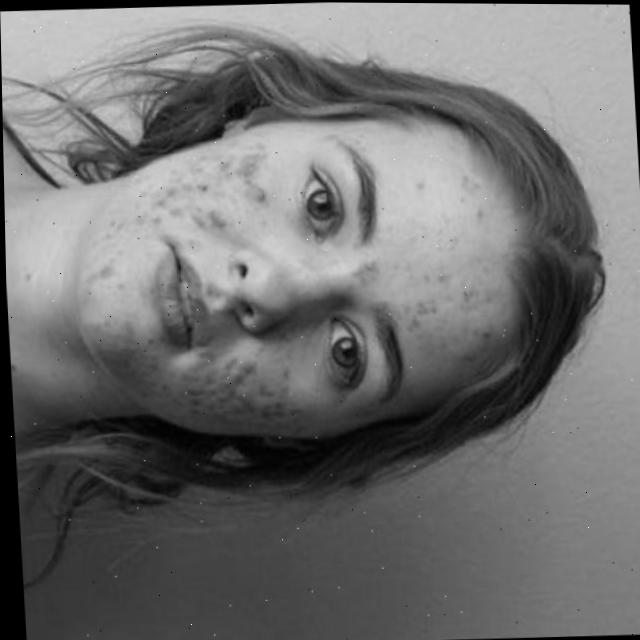Acne: (351, 149, 519, 369), (99, 142, 292, 253), (107, 344, 310, 441)
